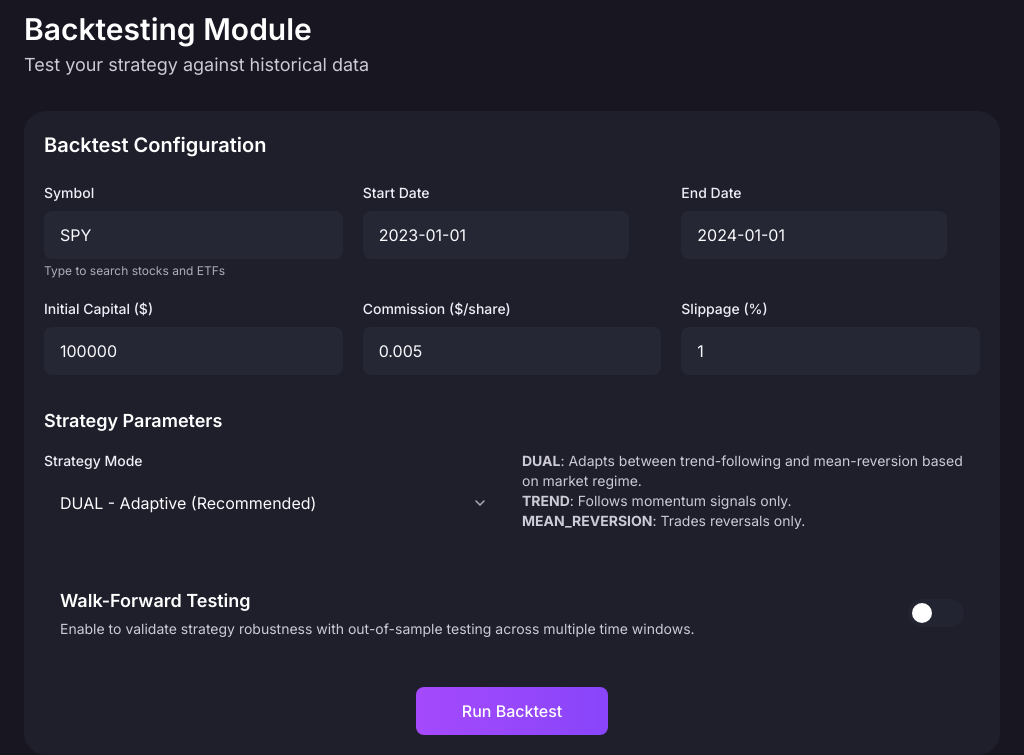
Backtest Page › displays retry button when error occurs
Click the button "Run Backtest": coordinates (512, 711) [416, 687, 608, 735]
(page scrolled)
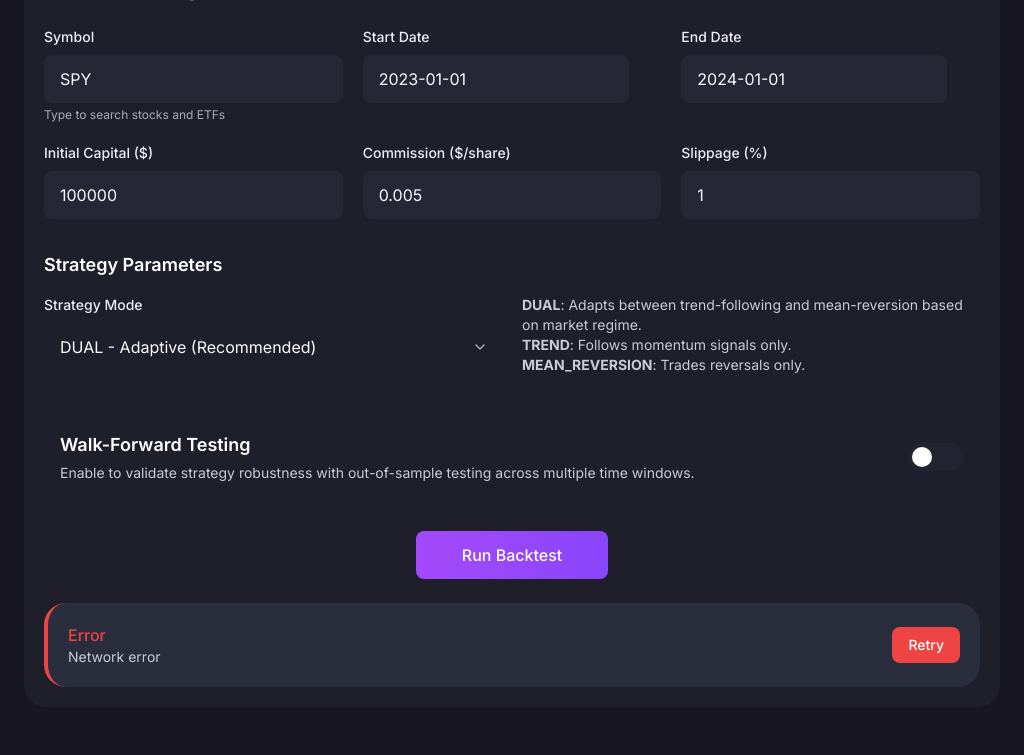
expect the button "Retry" is shown: met, box [892, 627, 960, 663]
